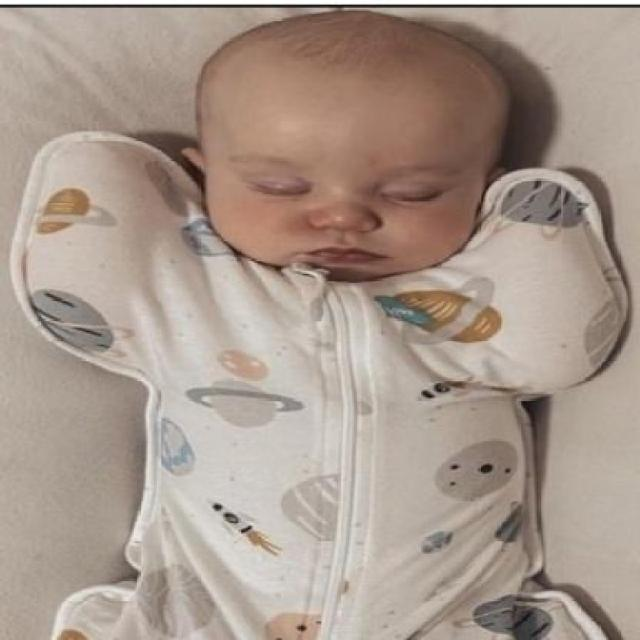baby: (15, 11, 631, 638)
